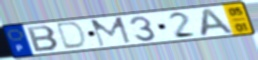2: (166, 11, 198, 39)
3: (128, 15, 159, 42)
A: (198, 7, 237, 38)
B: (25, 25, 62, 53)
D: (56, 21, 88, 51)
M: (89, 16, 133, 48)
